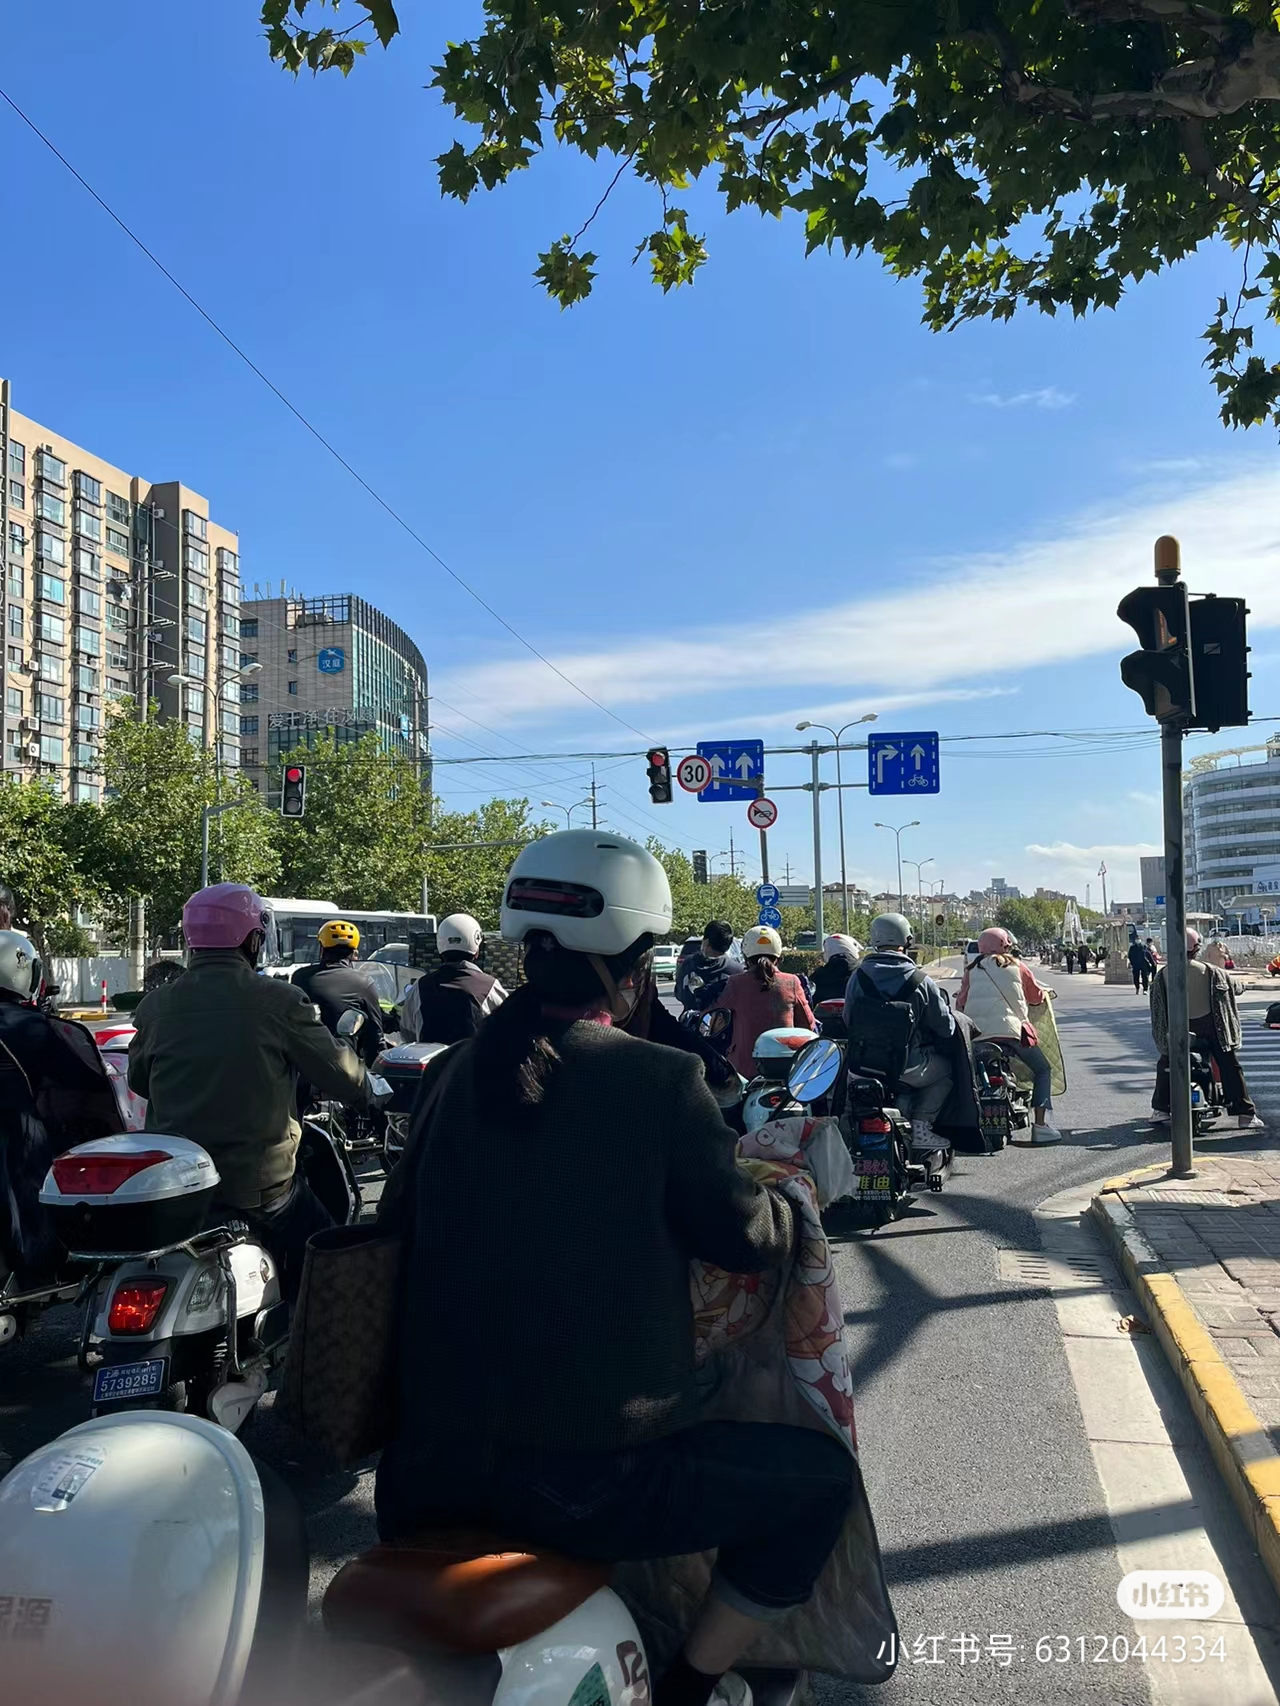p11: (748, 799, 778, 829)
pl30: (672, 756, 710, 793)
